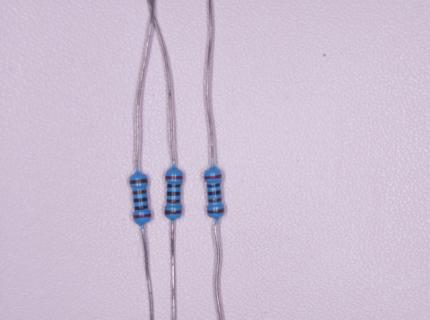Black band: (208, 190, 221, 196), (134, 198, 147, 202), (135, 206, 148, 210), (167, 192, 180, 196), (208, 183, 221, 187), (168, 185, 180, 188)
Brown band: (129, 179, 147, 184), (207, 208, 224, 213), (165, 211, 182, 215), (133, 190, 146, 195), (208, 198, 221, 202), (167, 200, 180, 203)
Red band: (133, 214, 151, 219), (205, 174, 221, 179), (166, 176, 183, 179)
